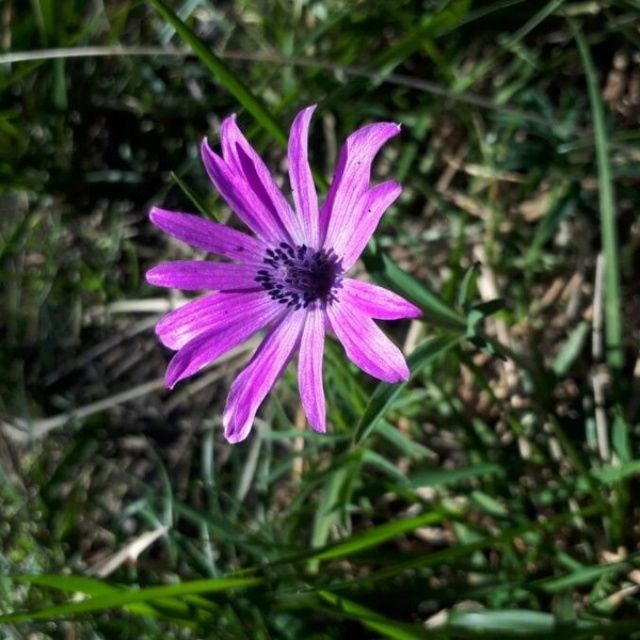obstacle: (130, 97, 551, 455)
